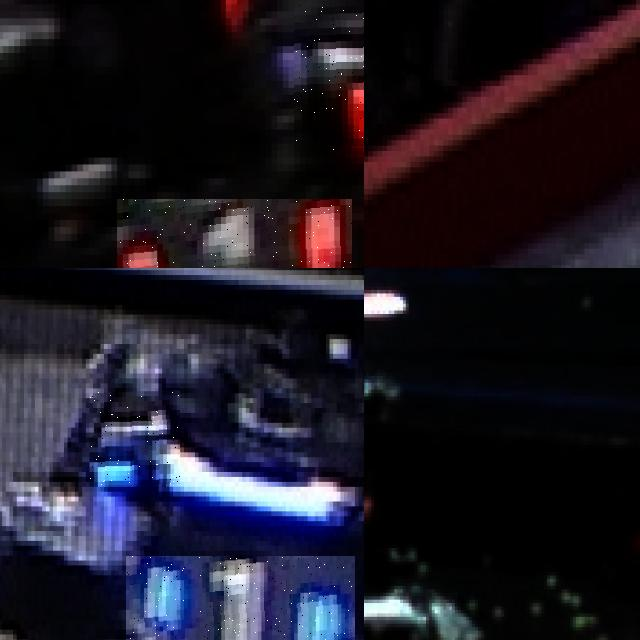B1: (126, 556, 355, 640), (90, 388, 180, 487)
R1: (117, 199, 351, 268), (294, 0, 364, 150)
